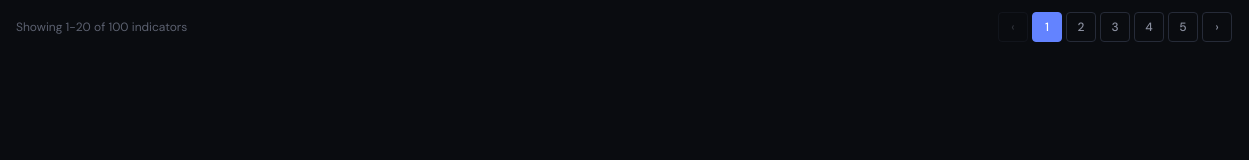
Scenario: Pagination › navigates to clicked page
The width and height of the screenshot is (1249, 160).
Step 1. Click the button "3" → (1115, 27), box [1100,12,1130,42]
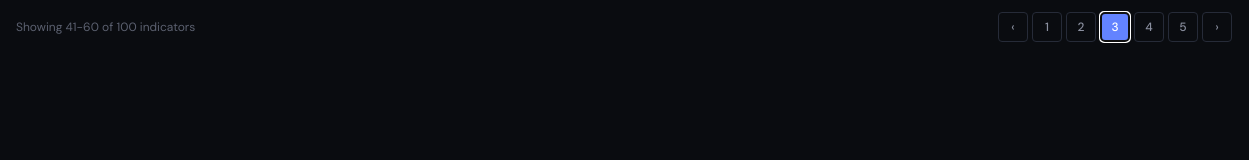
Now the text "Showing 41-60 of 100 indicators" is shown, box [16,18,195,36]
